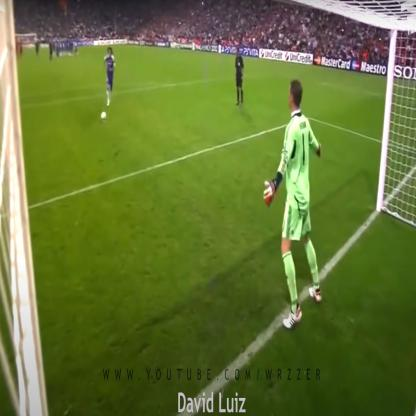penalty kick: (71, 10, 339, 337)
